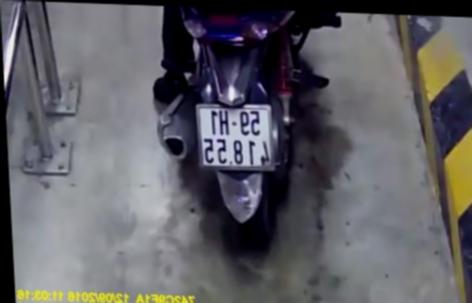License_Plate: (188, 97, 281, 179)
